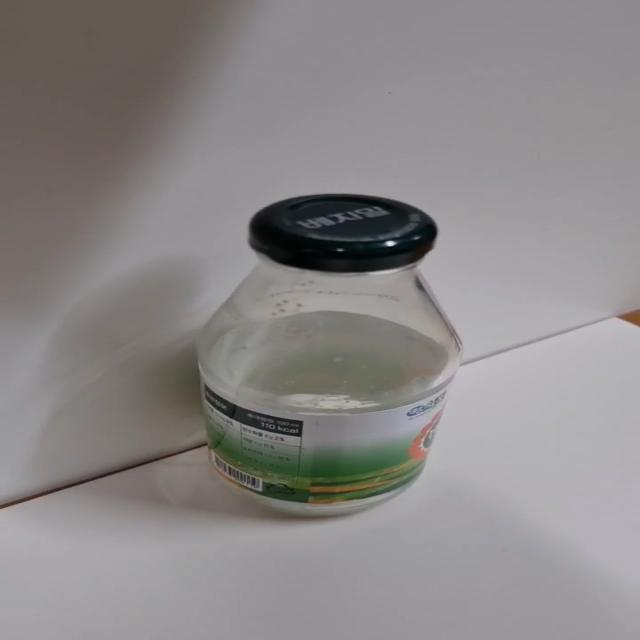Glass: (194, 194, 466, 520)
